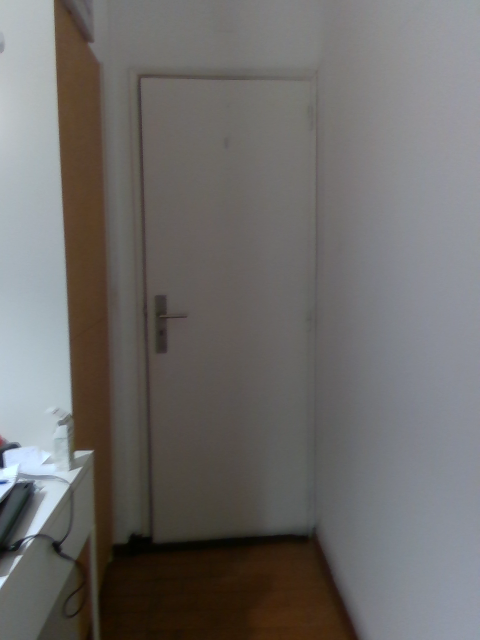closed: (134, 71, 313, 538)
